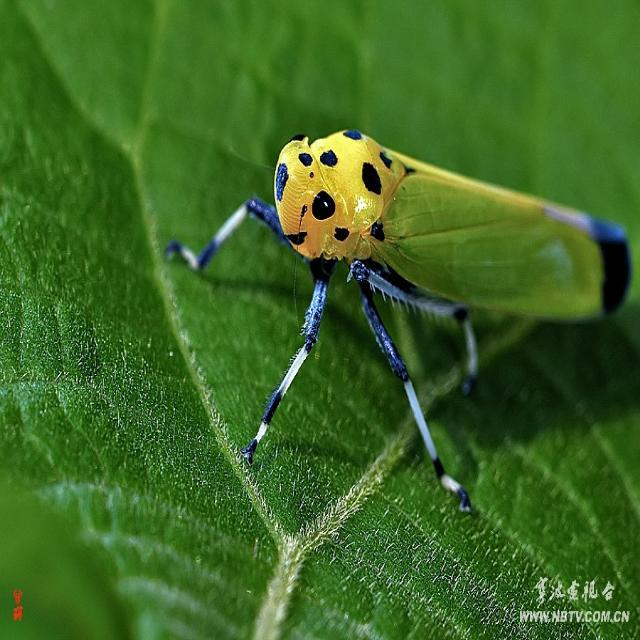Yechan: (169, 124, 634, 517)
